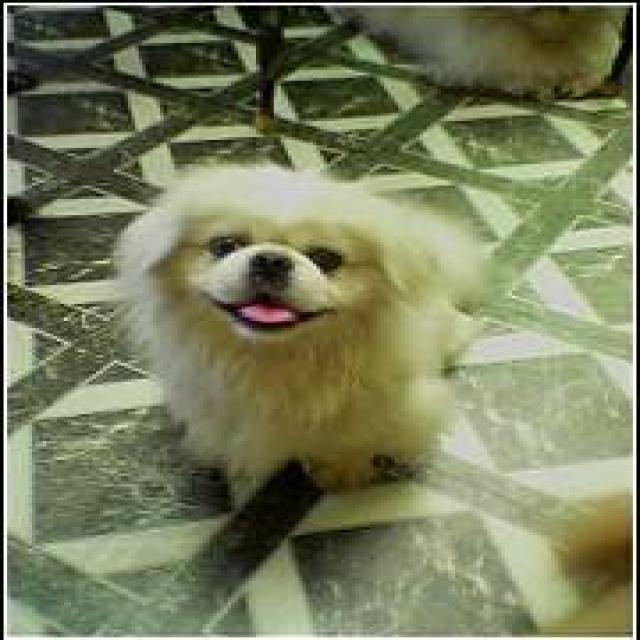dog: (107, 162, 494, 508)
